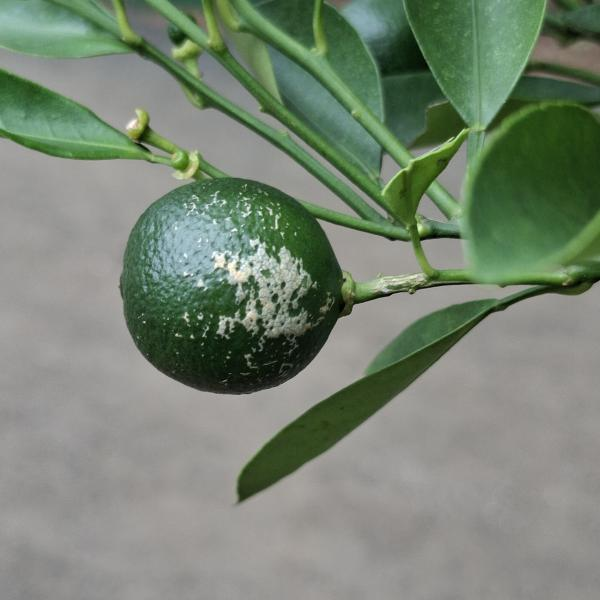Scab: (103, 170, 356, 403)
